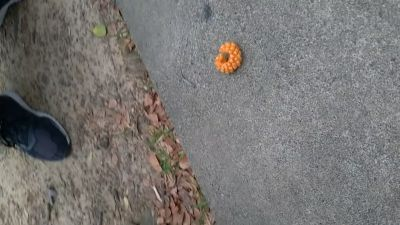eggs: (213, 41, 243, 74)
